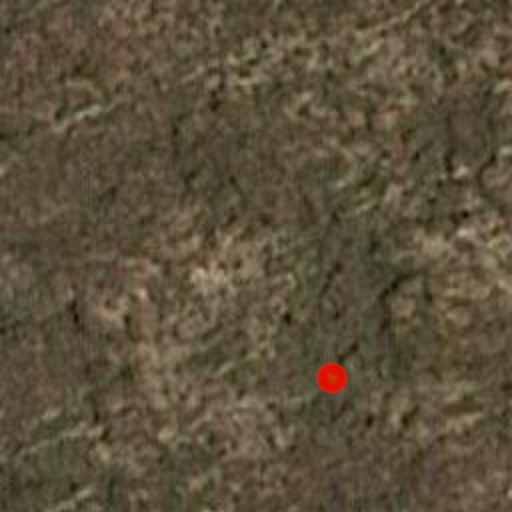circle: (310, 356, 354, 400)
